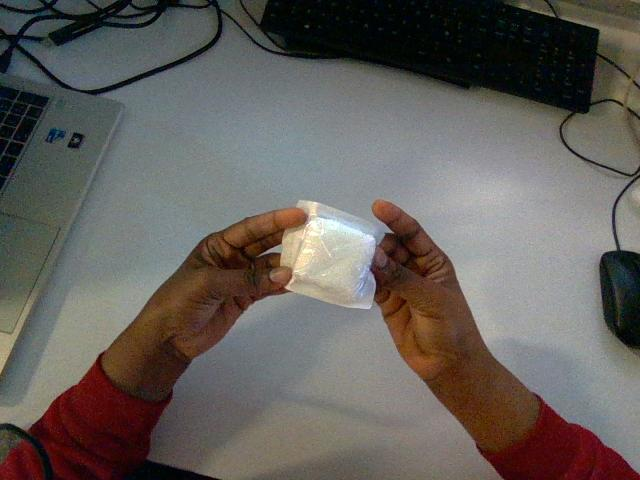gauze: (280, 200, 383, 308)
